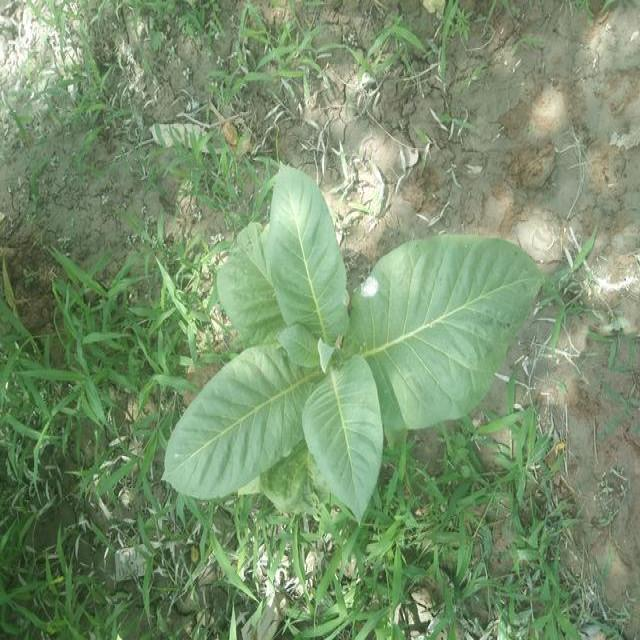crop: (167, 157, 550, 516)
